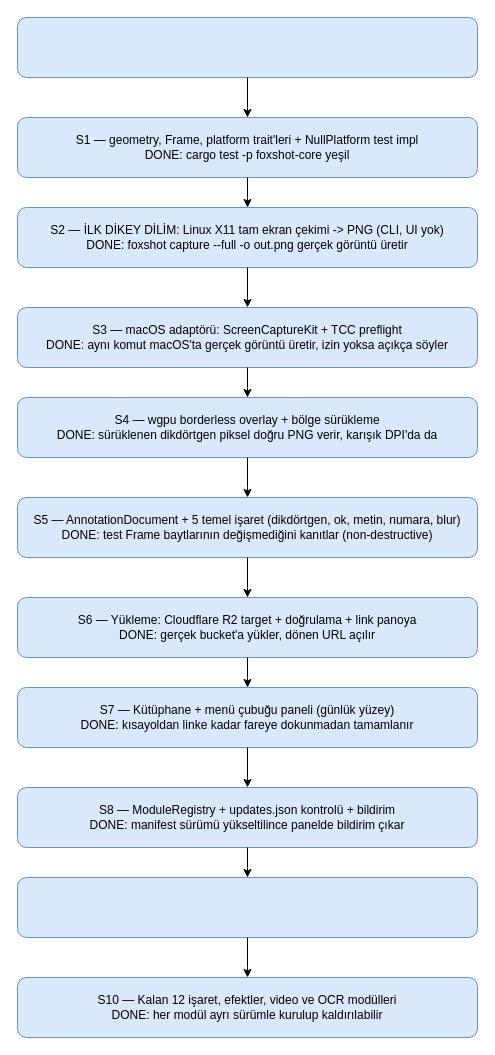
Some shapes in this 495 by 1055 pixel diagram are drawn without their labels. The shapes that lost their labels are listed below. From the top down, each one's centre as x and y in pixels, then its label:
At [247,47]: "S0 — Workspace + Core iskeleti DONE: cargo check tüm crate'lerde 0 döner".
At [247,907]: "S9 — Windows adaptörü DONE: aynı Core, üçüncü platformda çekim + yükleme çalışır".
